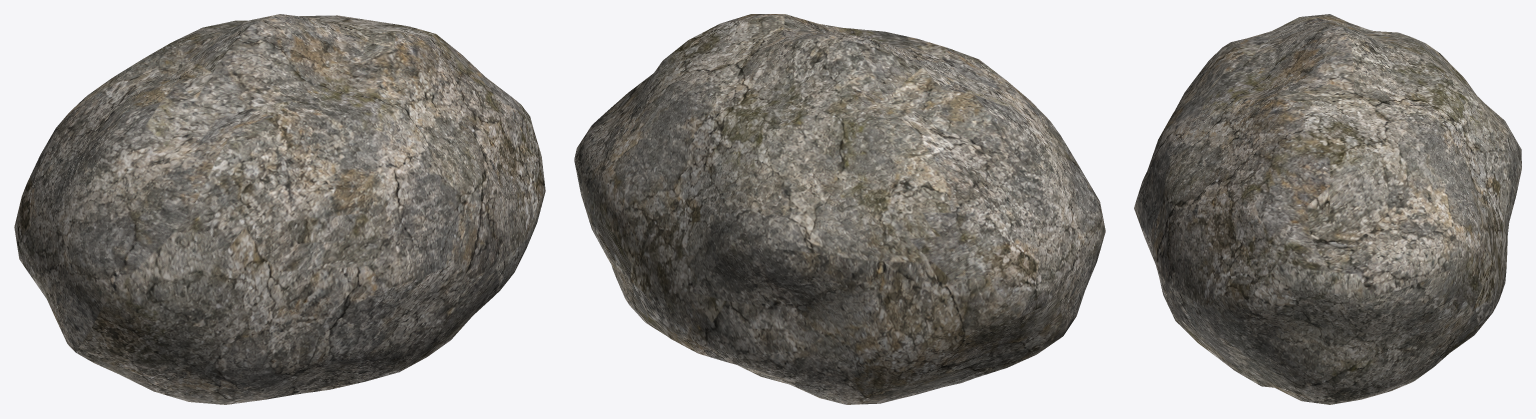
Rendered from rock_0.fbx.
The picture shows the model from 3 angles, left to right: view 1: azimuth 30°, elevation 25°; view 2: azimuth 150°, elevation 25°; view 3: azimuth 270°, elevation 25°; orthographic projection. The views are drawn at different scales.
Visible parts, largest first — view 1: rock_0; view 2: rock_0; view 3: rock_0.
Boxes of the visible parts, x1,y1,x2,y2 form: rock_0: (14,14,545,404); rock_0: (574,14,1105,404); rock_0: (1134,14,1521,404).
Size of what is drawn, in the model's own units: 2.34 by 1.48 by 1.78.
1 material, 1 textured.
